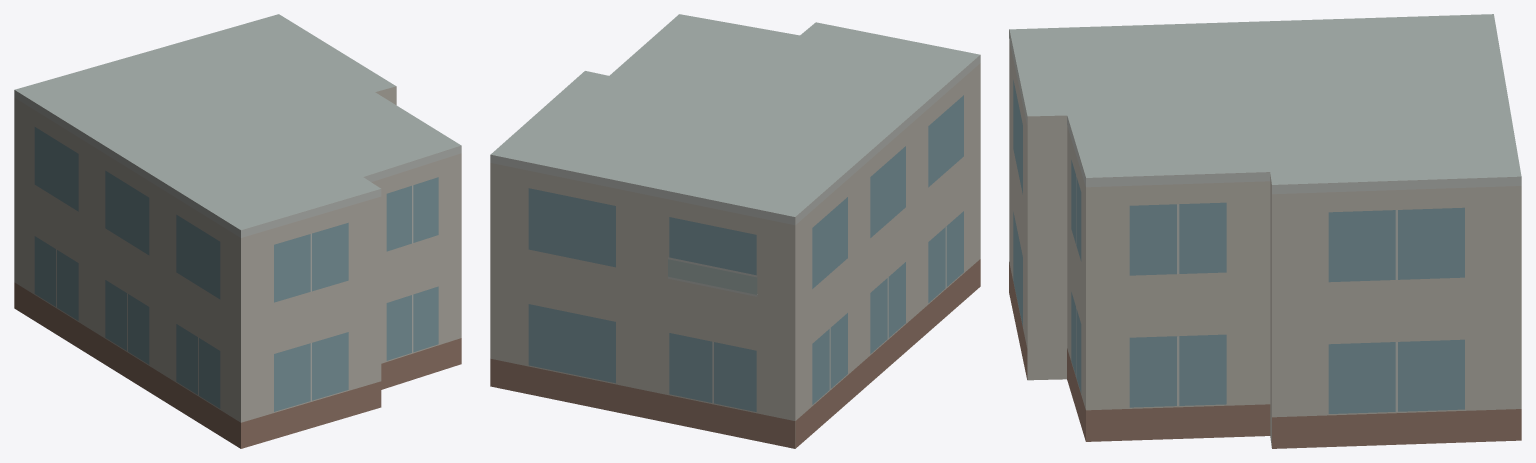
Rendered from survey-upis-32757087.glb.
3 views of the same model, side by side, from view 1: azimuth 30°, elevation 25°; view 2: azimuth 150°, elevation 25°; view 3: azimuth 270°, elevation 25° (orthographic). The views are drawn at different scales.
Parts seen in each view (by area): view 1: survey-upis-32757087.tmp; view 2: survey-upis-32757087.tmp; view 3: survey-upis-32757087.tmp.
Part boxes in pixels (x1,y1,x2,y2): survey-upis-32757087.tmp: (14,14,461,448); survey-upis-32757087.tmp: (490,14,980,448); survey-upis-32757087.tmp: (1009,14,1521,448).
Bounding box in the file's own units: 9.6 × 6.9 × 12.15.
